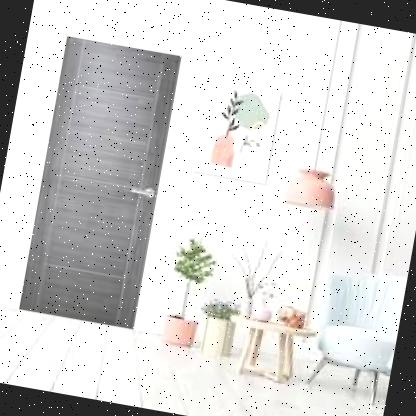door: (2, 26, 192, 336)
